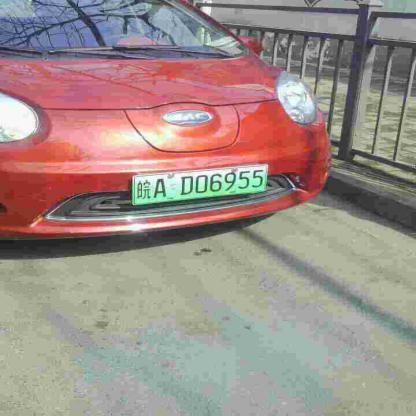lp: (132, 164, 266, 204)
